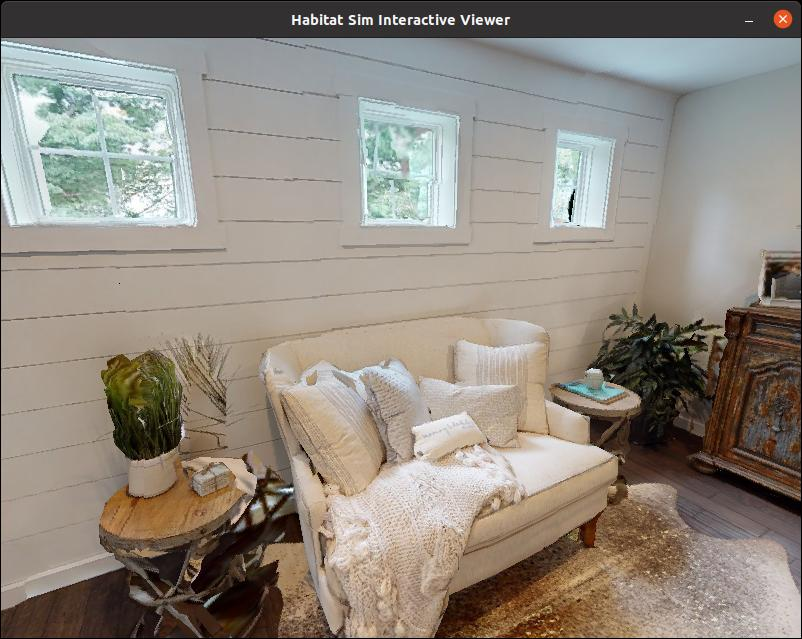sofa: (249, 273, 633, 637)
